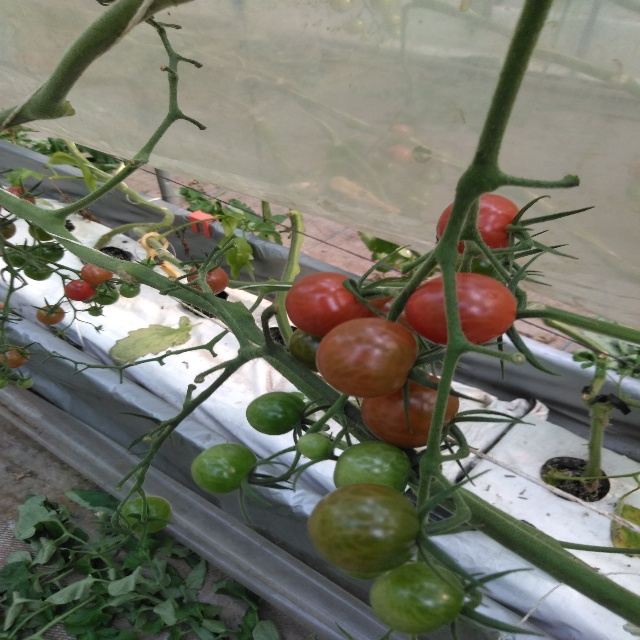l_fully_ripened: (406, 272, 517, 348), (436, 192, 521, 259), (285, 271, 369, 335), (63, 279, 96, 301)
l_green: (306, 483, 422, 574), (369, 560, 465, 635), (333, 440, 410, 494), (191, 442, 258, 494), (245, 392, 307, 436), (121, 495, 173, 535), (289, 327, 325, 372), (297, 433, 330, 461), (3, 244, 35, 267), (32, 242, 65, 264), (92, 282, 119, 306), (24, 262, 53, 281), (120, 282, 140, 298), (140, 258, 157, 270), (88, 306, 102, 317)
l_half_ripened: (314, 317, 419, 399), (360, 370, 460, 448), (187, 263, 229, 295), (81, 263, 113, 285), (1, 346, 31, 369), (36, 304, 65, 325)
